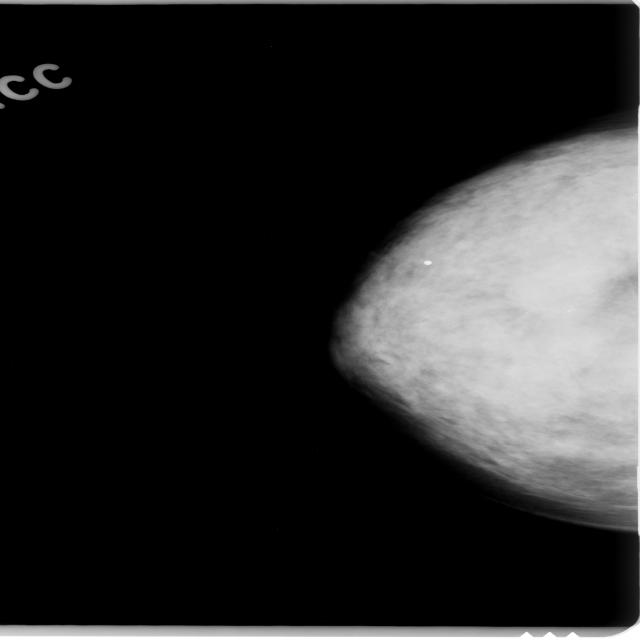normal: (308, 116, 640, 530)
